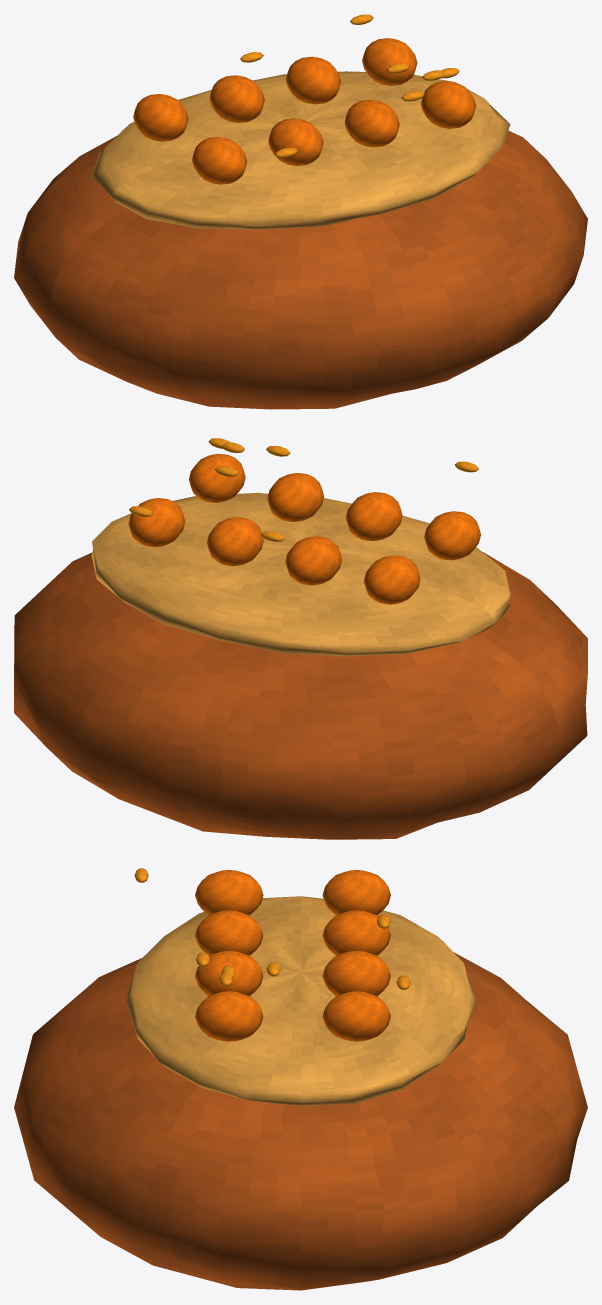
File: bread_cheese_corn.glb
3 views of the same model, one above another, from view 1: azimuth 30°, elevation 25°; view 2: azimuth 150°, elevation 25°; view 3: azimuth 270°, elevation 25° (orthographic). The views are drawn at different scales.
Parts seen in each view (by area): view 1: ふっくらした生地.002, 具材を載せるくぼみ.002, つぶつぶコーン, つぶつぶコーン.004, つぶつぶコーン.006, つぶつぶコーン.001, つぶつぶコーン.003, つぶつぶコーン.005, つぶつぶコーン.007, つぶつぶコーン.002; view 2: ふっくらした生地.002, 具材を載せるくぼみ.002, つぶつぶコーン, つぶつぶコーン.001, つぶつぶコーン.003, つぶつぶコーン.002, つぶつぶコーン.004, つぶつぶコーン.005, つぶつぶコーン.007, つぶつぶコーン.006; view 3: ふっくらした生地.002, 具材を載せるくぼみ.002, つぶつぶコーン.007, つぶつぶコーン.006, つぶつぶコーン.002, つぶつぶコーン.001, つぶつぶコーン, つぶつぶコーン.005, つぶつぶコーン.003, つぶつぶコーン.004.
Boxes of the visible parts, bbox=[...] form: ふっくらした生地.002: bbox=[14, 130, 587, 409]; 具材を載せるくぼみ.002: bbox=[91, 71, 510, 229]; つぶつぶコーン: bbox=[192, 137, 247, 184]; つぶつぶコーン.004: bbox=[344, 99, 399, 147]; つぶつぶコーン.006: bbox=[421, 81, 475, 128]; つぶつぶコーン.001: bbox=[133, 94, 188, 141]; つぶつぶコーン.003: bbox=[209, 75, 264, 122]; つぶつぶコーン.005: bbox=[285, 56, 340, 104]; つぶつぶコーン.007: bbox=[362, 38, 417, 85]; つぶつぶコーン.002: bbox=[268, 118, 323, 165]; ふっくらした生地.002: bbox=[14, 552, 587, 839]; 具材を載せるくぼみ.002: bbox=[91, 492, 510, 656]; つぶつぶコーン: bbox=[424, 511, 480, 560]; つぶつぶコーン.001: bbox=[364, 555, 420, 604]; つぶつぶコーン.003: bbox=[285, 536, 342, 585]; つぶつぶコーン.002: bbox=[345, 492, 402, 541]; つぶつぶコーン.004: bbox=[267, 473, 324, 521]; つぶつぶコーン.005: bbox=[207, 517, 263, 566]; つぶつぶコーン.007: bbox=[128, 498, 185, 547]; つぶつぶコーン.006: bbox=[189, 453, 245, 502]; ふっくらした生地.002: bbox=[14, 952, 587, 1290]; 具材を載せるくぼみ.002: bbox=[125, 896, 476, 1106]; つぶつぶコーン.007: bbox=[322, 991, 390, 1041]; つぶつぶコーン.006: bbox=[195, 991, 263, 1041]; つぶつぶコーン.002: bbox=[195, 910, 263, 955]; つぶつぶコーン.001: bbox=[322, 870, 390, 915]; つぶつぶコーン: bbox=[195, 870, 263, 915]; つぶつぶコーン.005: bbox=[322, 950, 390, 995]; つぶつぶコーン.003: bbox=[322, 910, 390, 955]; つぶつぶコーン.004: bbox=[195, 950, 263, 995].
Bounding box in the file's own units: 0.7929 × 0.4361 × 0.72.
4 materials, 4 textured.
